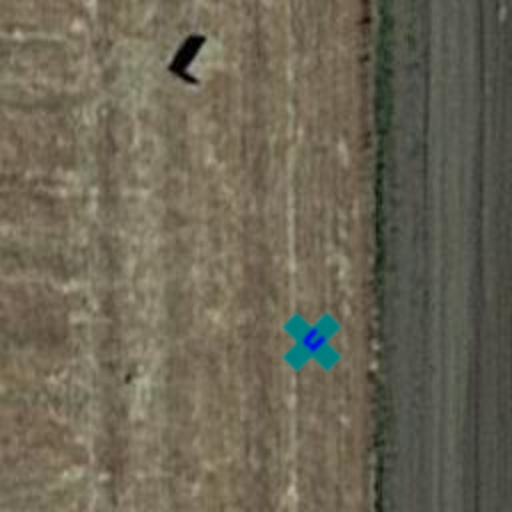cross: (266, 296, 358, 388)
